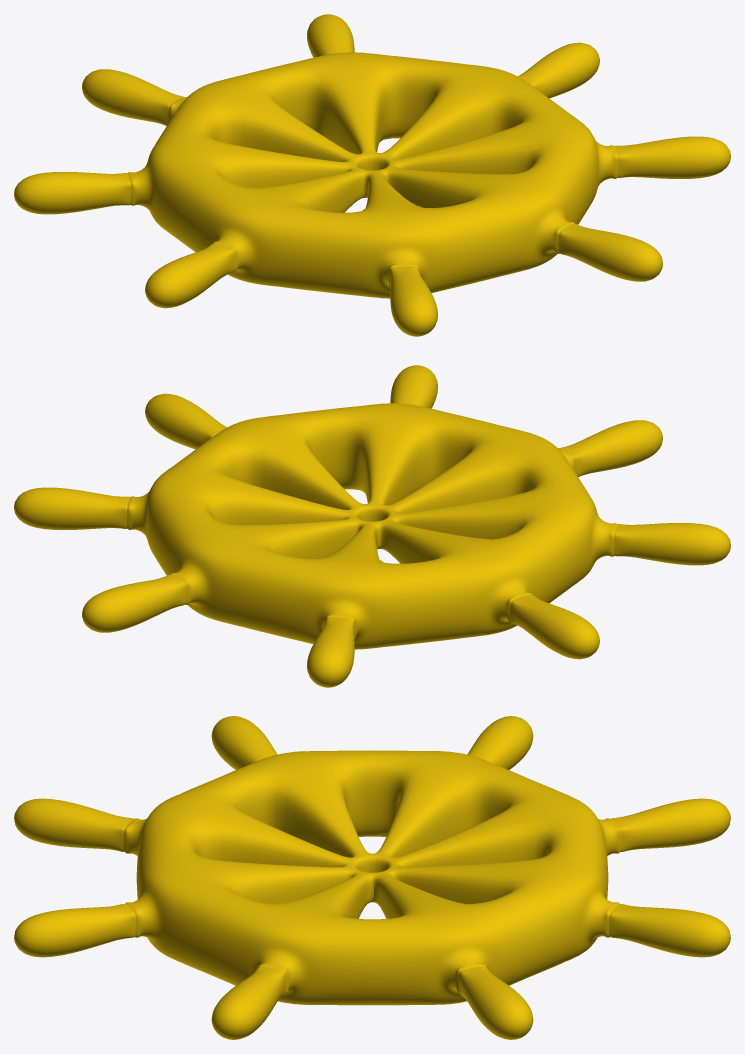
Rendered from Timon_dorado.fbx.
3 views of the same model, one above another, from view 1: azimuth 30°, elevation 25°; view 2: azimuth 150°, elevation 25°; view 3: azimuth 270°, elevation 25° (orthographic). The views are drawn at different scales.
Parts seen in each view (by area): view 1: Cylinder; view 2: Cylinder; view 3: Cylinder.
Part boxes in pixels (x1,y1,x2,y2): Cylinder: [14, 14, 730, 336]; Cylinder: [14, 365, 730, 687]; Cylinder: [14, 716, 730, 1039].
Bounding box in the file's own units: 295 × 36.34 × 295.
